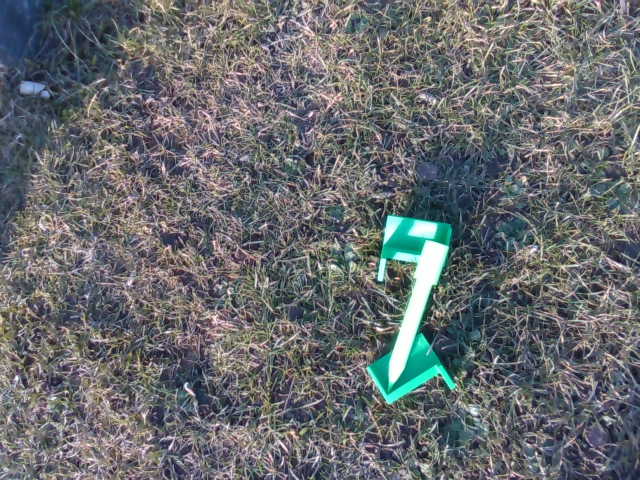Probe: (384, 238, 450, 395)
